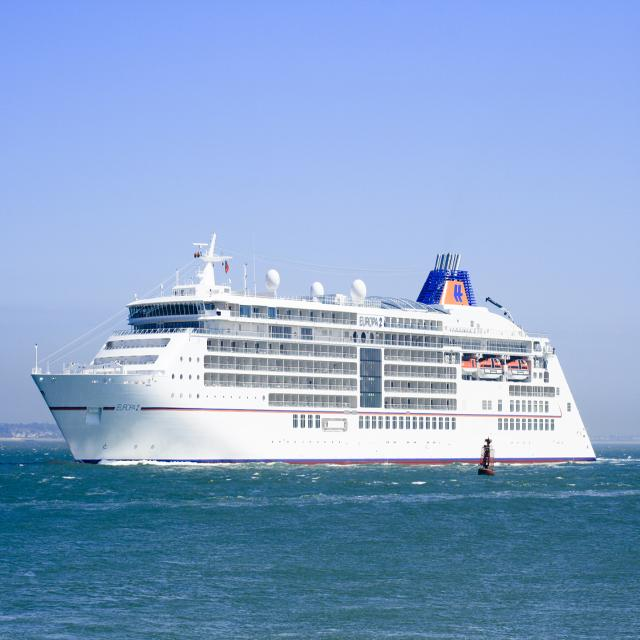buoy: (473, 433, 501, 478)
passenger ship: (30, 227, 598, 462)
